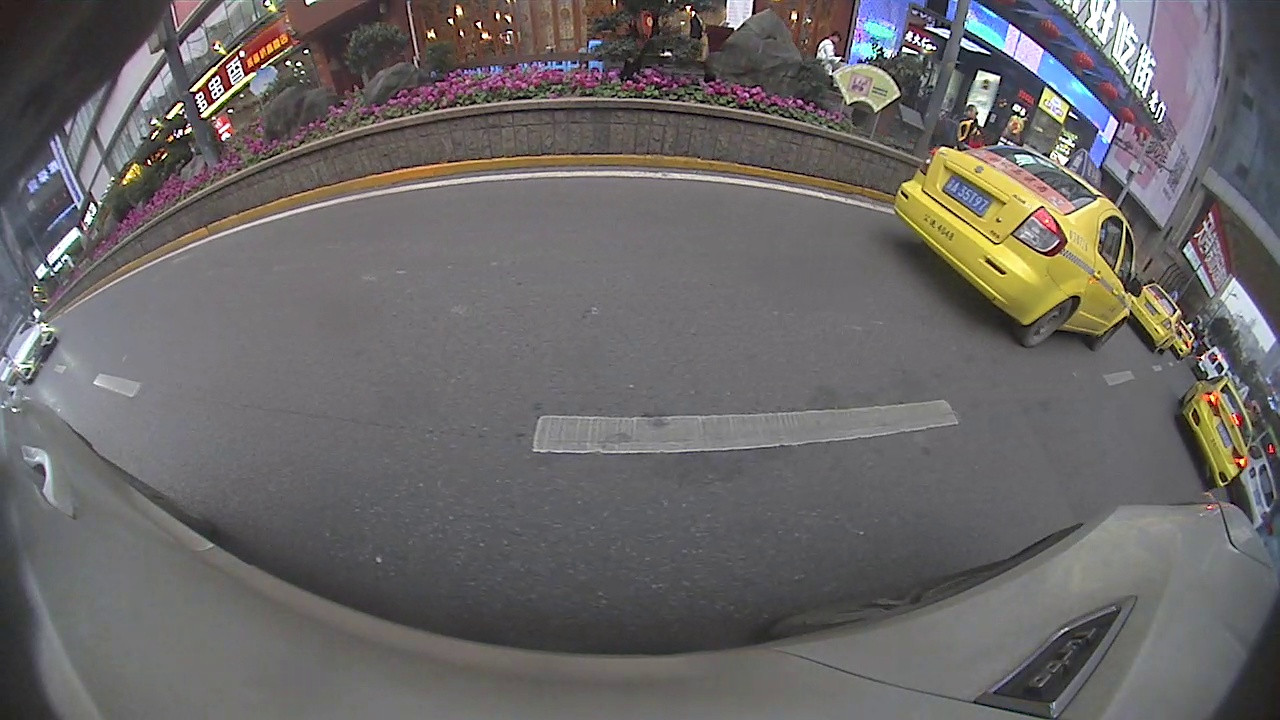car: (893, 144, 1144, 351), (1174, 374, 1252, 491), (1131, 283, 1184, 355), (3, 320, 58, 383)
front: (1090, 319, 1129, 353)
rear: (1017, 297, 1077, 350)
